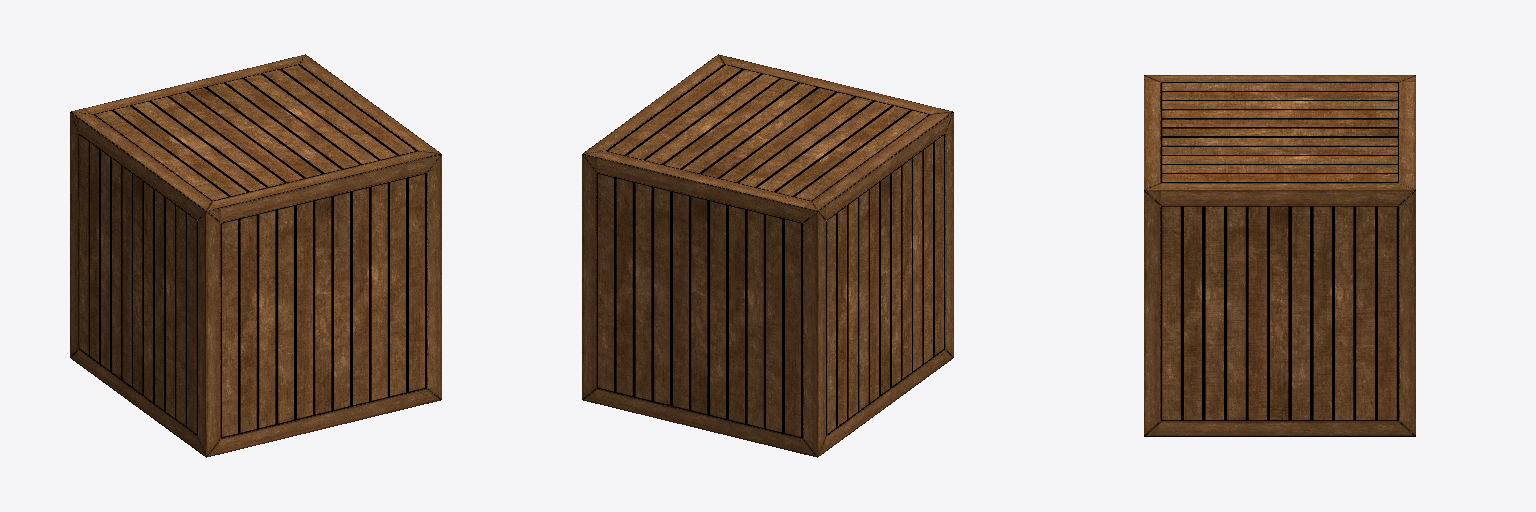
3 renders of one model, left to right at view 1: azimuth 30°, elevation 25°; view 2: azimuth 150°, elevation 25°; view 3: azimuth 270°, elevation 25°, orthographic.
Parts seen in each view (by area): view 1: wood-box-s2; view 2: wood-box-s2; view 3: wood-box-s2.
Part boxes in pixels (left/top/right/bottom): wood-box-s2: left=70, top=54, right=441, bottom=457; wood-box-s2: left=582, top=54, right=953, bottom=457; wood-box-s2: left=1144, top=75, right=1415, bottom=436.
Bounding box in the file's own units: 2 × 2 × 2.
Materials: 1 (1 with a texture image).